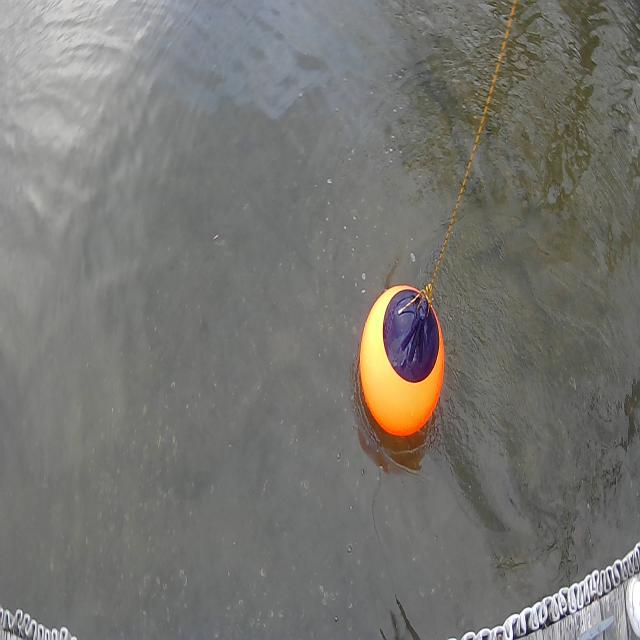Buoy: (352, 262, 454, 458)
